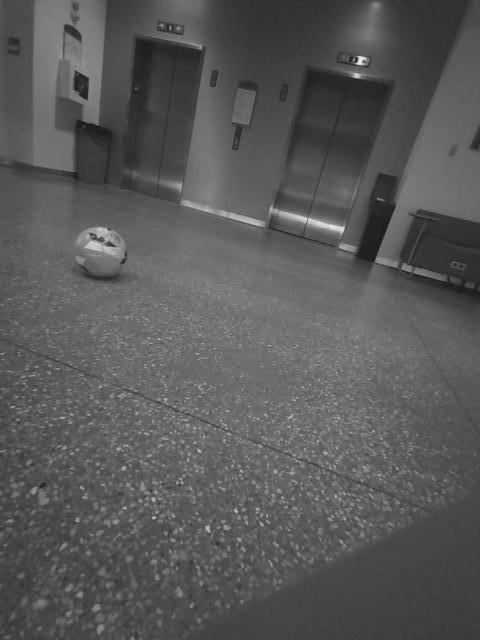ball: (67, 222, 137, 286)
